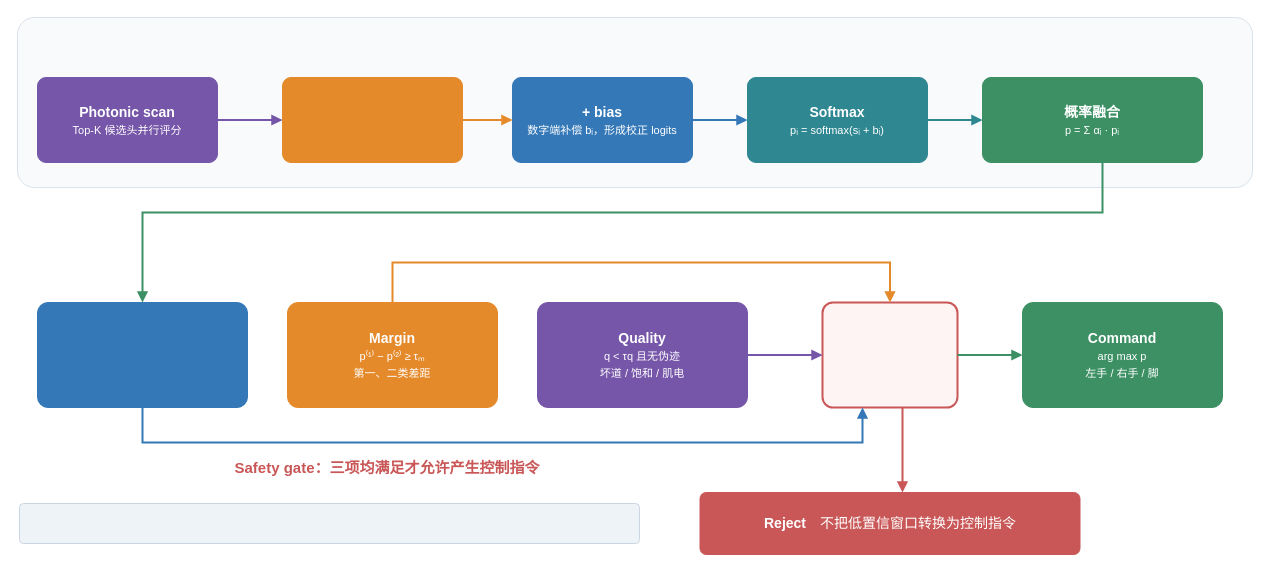
The diagram is 1270 pixels wide and 572 high, and some of its shapes have lost their labels. Here are the shapes that lost their labels. From the top down, the centre of each, then its label:
the point at 372,119: Candidate scores s₁ … sᴷ；每个候选 3 类得分
the point at 142,355: Confidence max(p) ≥ τₚ 最大类别概率
the point at 889,354: 全部通过？
the point at 329,523: 融合后才评估 confidence / margin；质量异常可直接触发 reject
